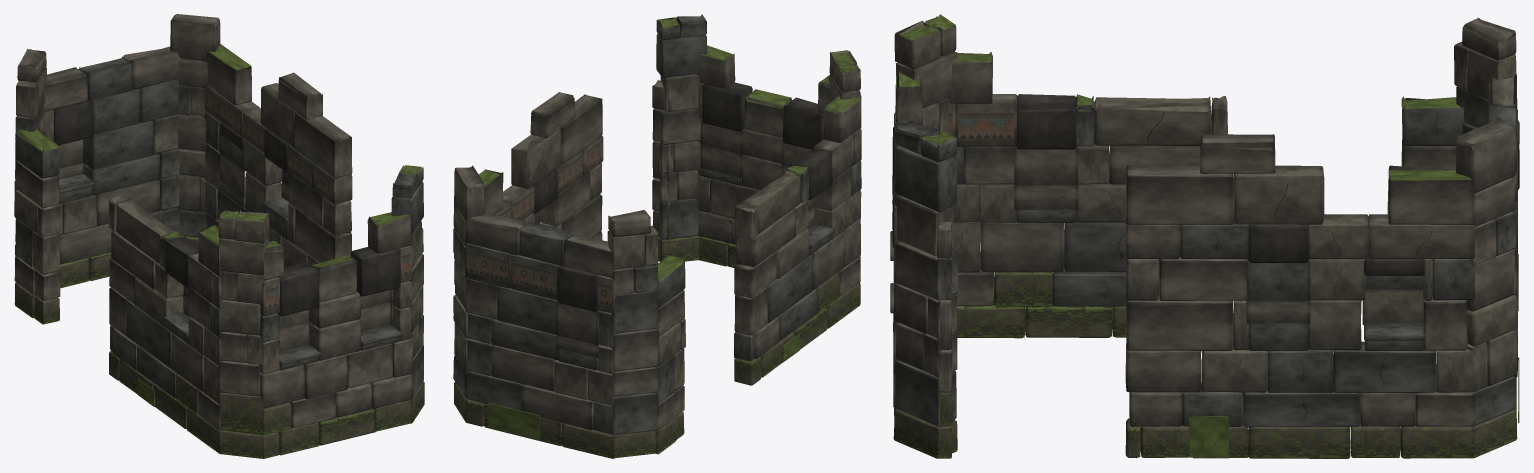
The model's file is THStage_Block_Shell.fbx.
3 renders of one model, left to right at view 1: azimuth 30°, elevation 25°; view 2: azimuth 150°, elevation 25°; view 3: azimuth 270°, elevation 25°, orthographic. The views are drawn at different scales.
Parts seen in each view (by area): view 1: THStage_Block_Shell; view 2: THStage_Block_Shell; view 3: THStage_Block_Shell.
Part boxes in pixels (x1,y1,x2,y2): THStage_Block_Shell: (14,14,424,458); THStage_Block_Shell: (453,14,861,458); THStage_Block_Shell: (890,14,1519,458).
Size of the model in its own units: 2.21 by 2.4 by 4.34.
